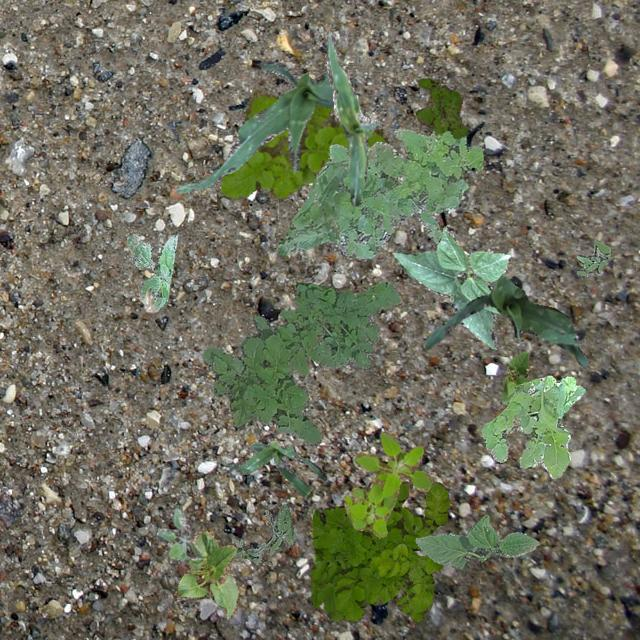crop: (175, 59, 332, 192), (422, 276, 586, 366), (392, 224, 509, 348), (324, 27, 378, 205), (414, 514, 538, 568), (174, 528, 238, 618), (228, 439, 326, 496), (500, 350, 530, 402)
weed: (200, 280, 400, 444), (276, 126, 482, 258), (310, 480, 448, 624), (220, 88, 388, 198), (480, 374, 584, 480), (342, 432, 432, 538), (232, 502, 294, 564), (126, 234, 176, 308), (414, 78, 466, 138), (156, 508, 202, 560), (576, 240, 610, 276)
